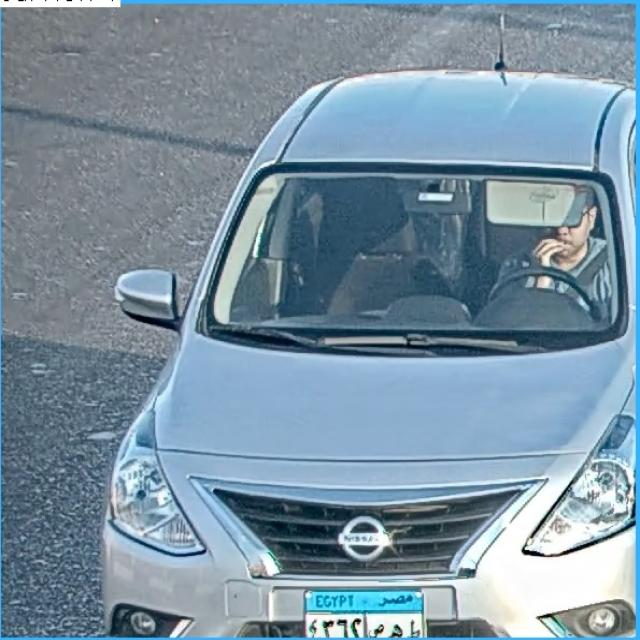windshield: (188, 164, 626, 344)
